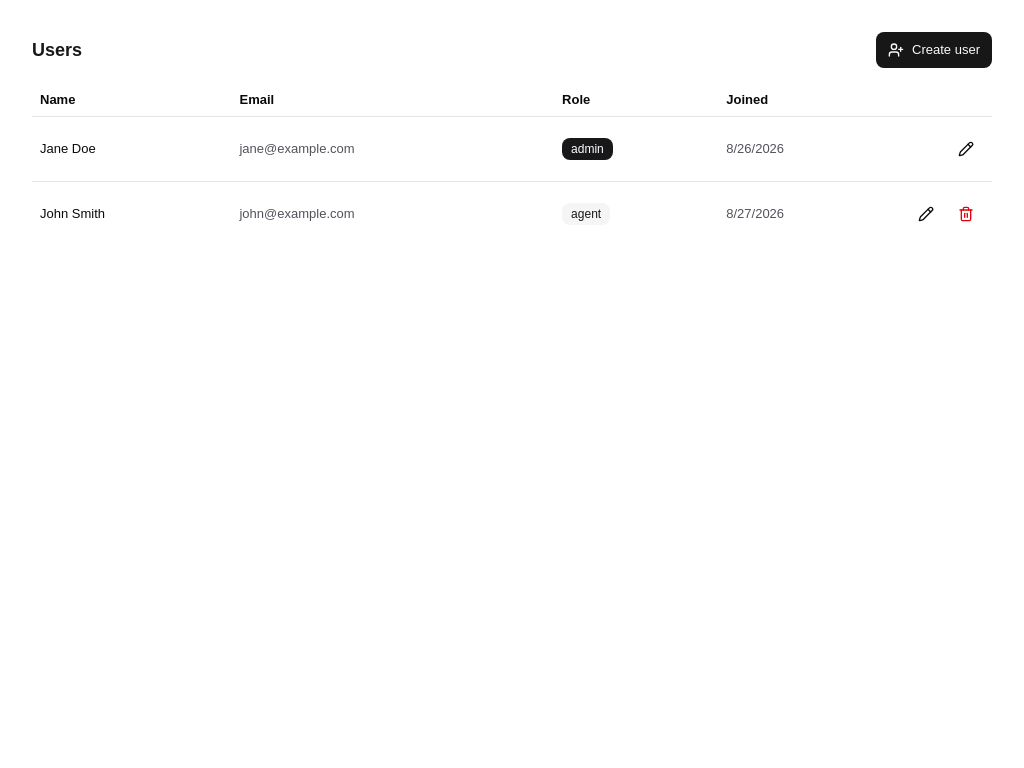
Test case: Users › creates a user, closes the dialog, and refreshes the list
Expected: the cell "Jane Doe" is shown, top-left (32, 116), bottom-right (232, 181)
Click the button "Create user" at (934, 50), box top-left (876, 32), bottom-right (992, 68)
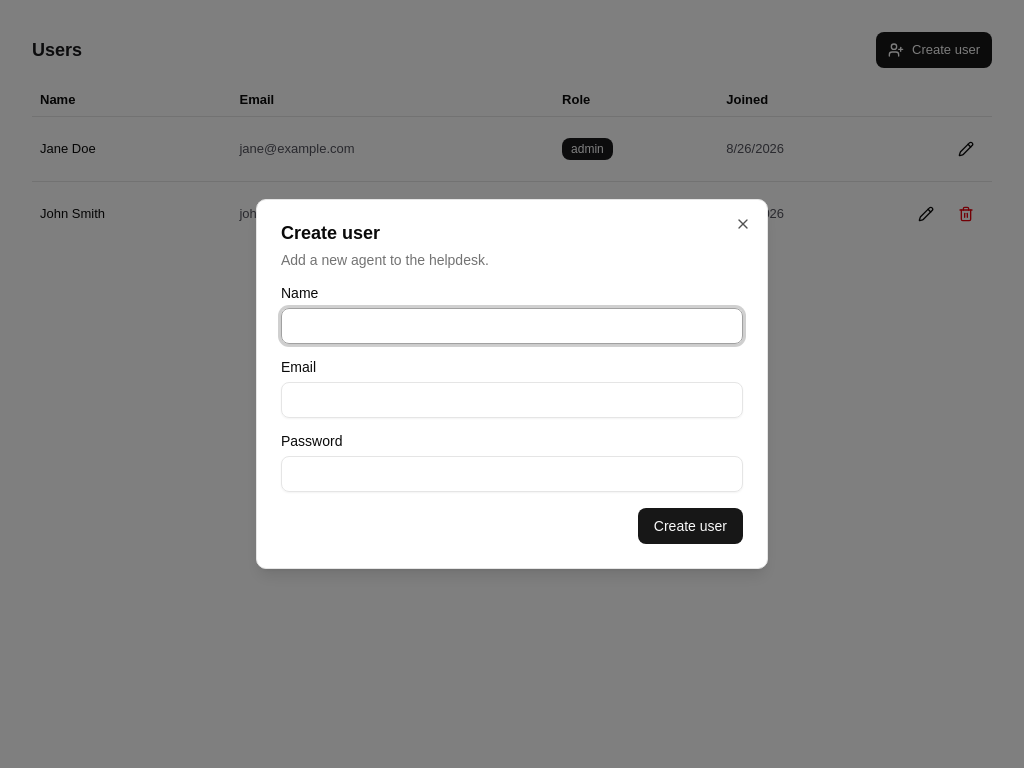
Type "Alice Wong" into the field labelled "Name" at (512, 326), box top-left (281, 308), bottom-right (743, 344)
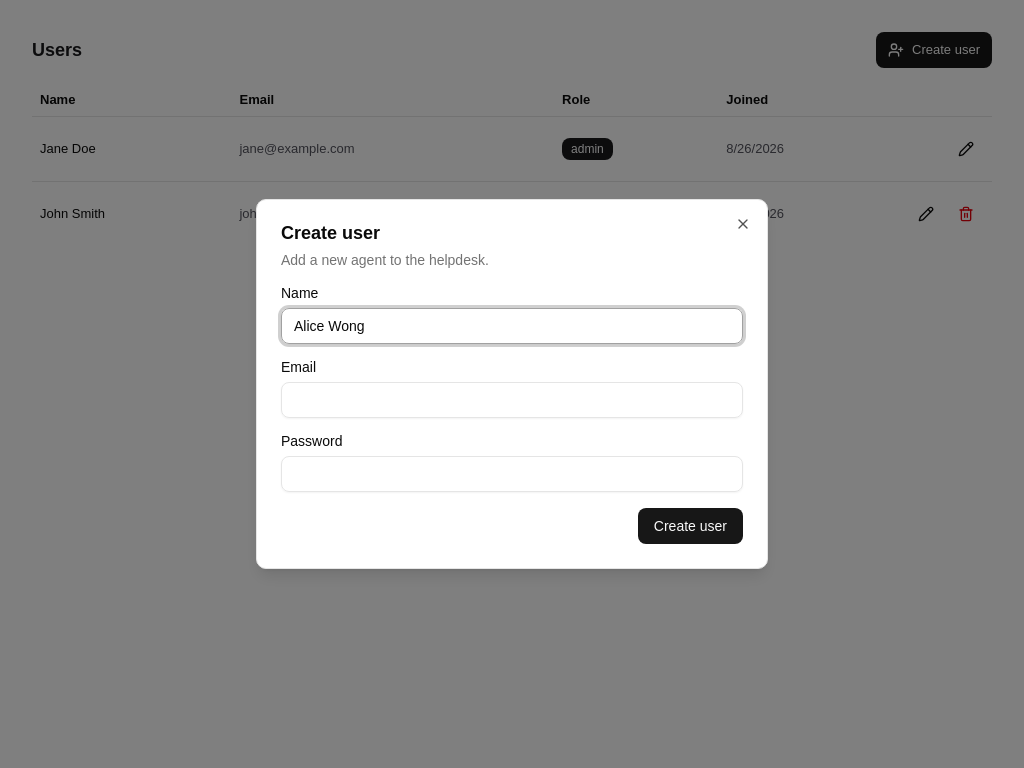
Type "alice@example.com" into the field labelled "Email" at (512, 400), box top-left (281, 382), bottom-right (743, 418)
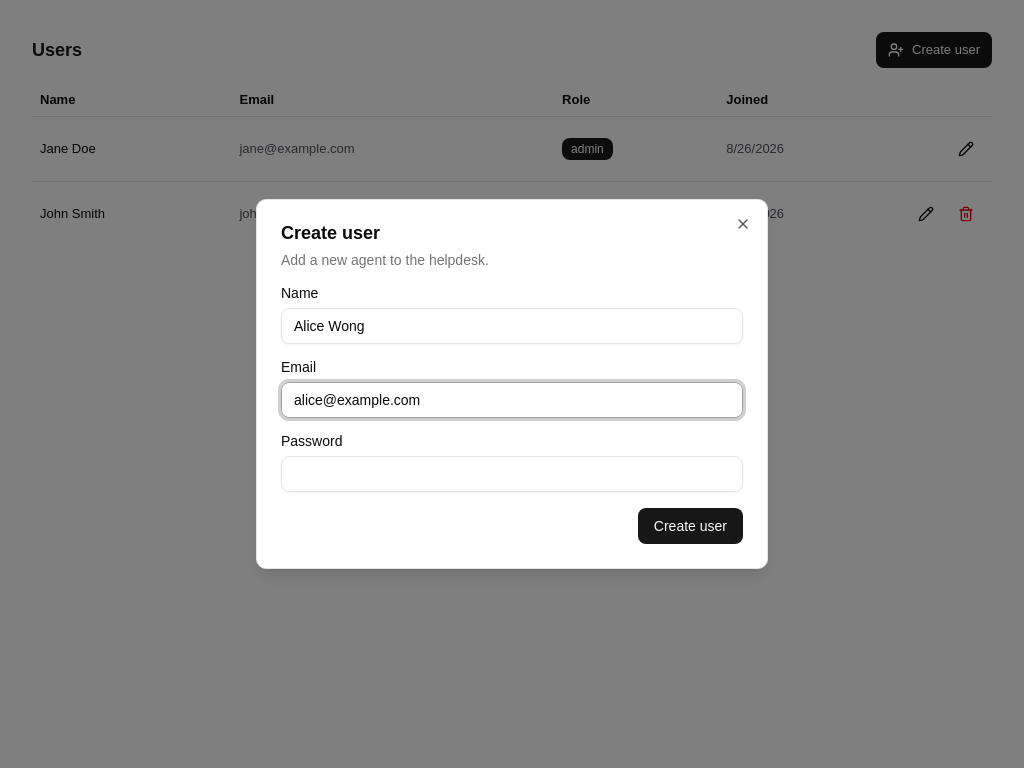
Type "password123" into the password field labelled "Password" at (512, 474), box top-left (281, 456), bottom-right (743, 492)
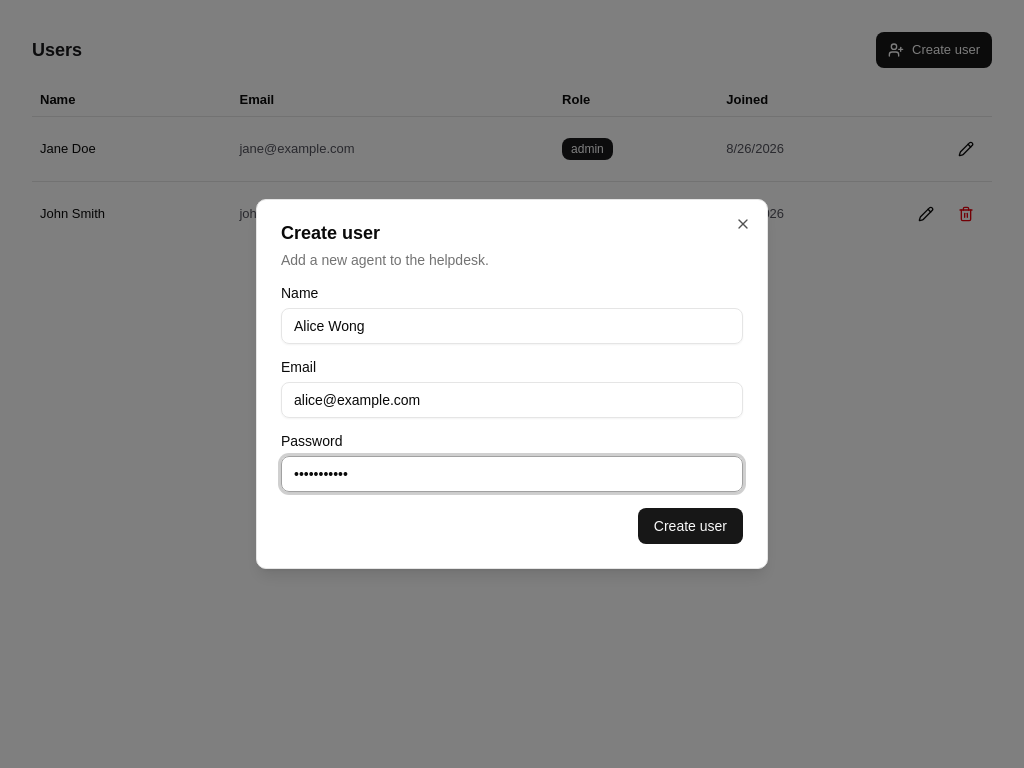
Click the button "Create user" at (690, 526), box top-left (638, 508), bottom-right (743, 544)
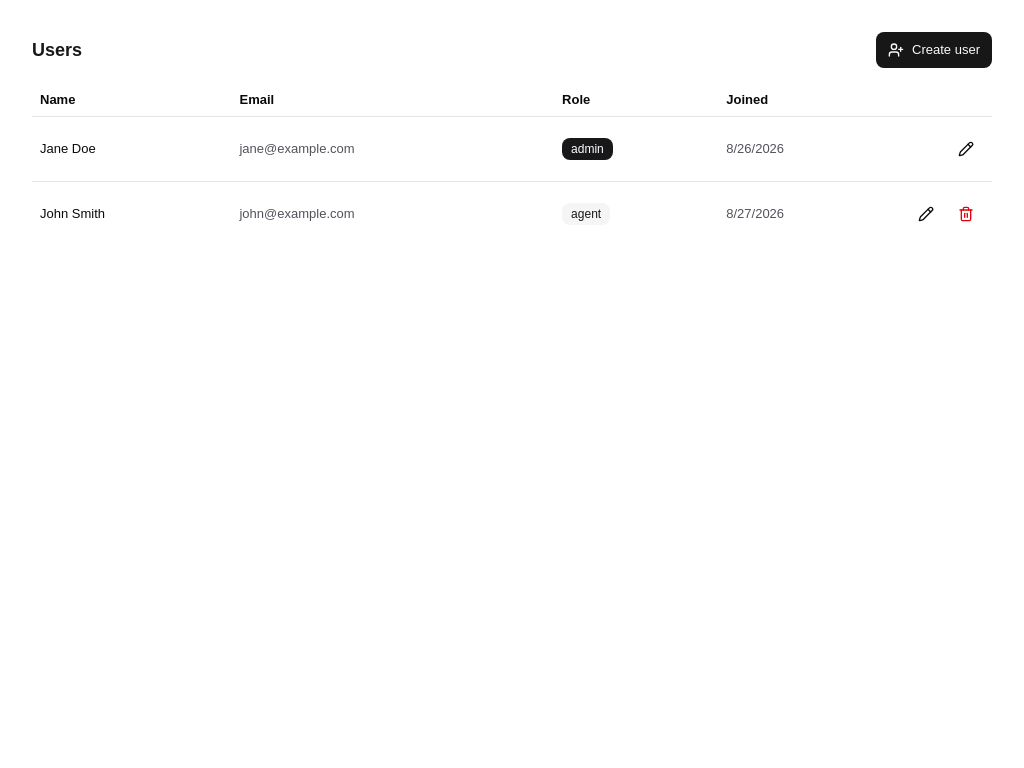
Expected: the dialog is gone
